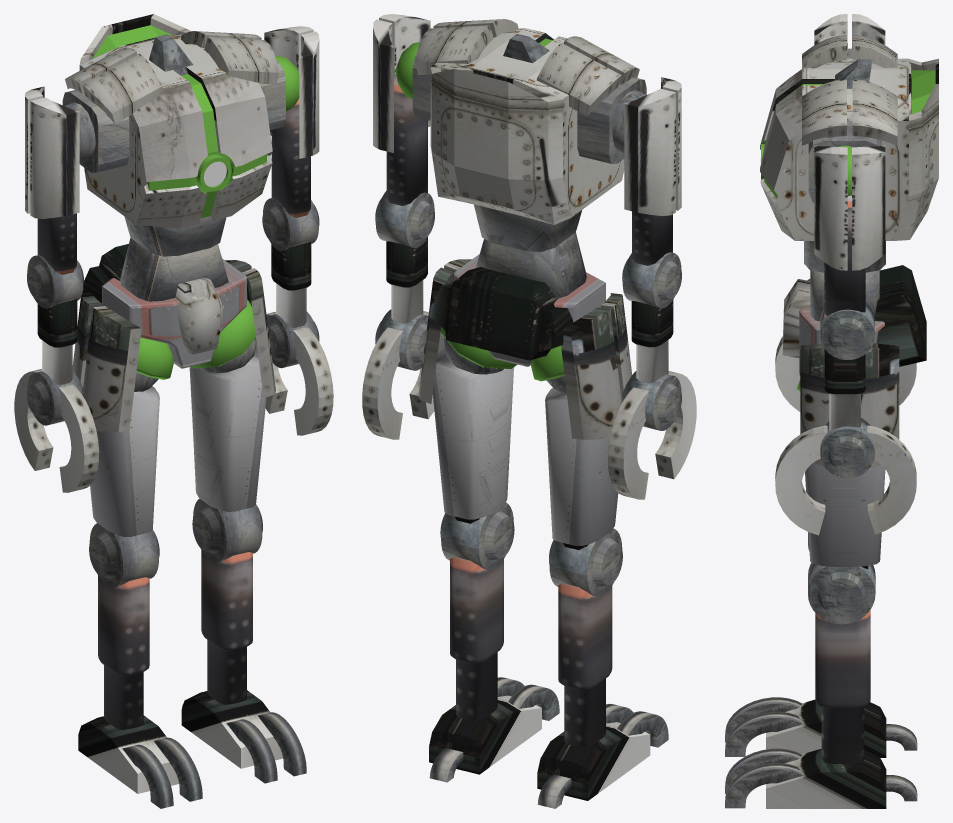
Rendered from Robot 5 body and legs.fbx.
The picture shows the model from 3 angles, left to right: view 1: azimuth 30°, elevation 25°; view 2: azimuth 150°, elevation 25°; view 3: azimuth 270°, elevation 25°; orthographic projection. The views are drawn at different scales.
Parts seen in each view (by area): view 1: Cube.017, Cube.008, Cube.006, Cube.028, Cube.025, Cube.012, Cube.024, Cube.020, Cube.030, Cube.002, Cube.013, Cube.015 (+32 smaller); view 2: Cube.017, Cube.008, Cube.029, Cube.028, Cube.025, Cube.006, Cube.012, Cube.024, Cube.015, Cube.013, Cube.030, Cube.018 (+29 smaller); view 3: Cube.017, Cube.018, Cube.012, Cube.008, Cube.007, Cube.013, Cube.031, Cube.029, Cylinder.004, Cylinder.019, Cylinder.020, Cube.015 (+20 smaller).
Boxes of the visible parts, box(x1,y1,x2,y2) form: Cube.017: box(79, 14, 272, 228); Cube.008: box(189, 348, 266, 511); Cube.006: box(90, 386, 159, 536); Cube.028: box(72, 292, 141, 432); Cube.025: box(98, 575, 149, 729); Cube.012: box(201, 550, 252, 704); Cube.024: box(25, 86, 79, 218); Cube.020: box(102, 258, 246, 368); Cube.030: box(65, 47, 163, 123); Cube.002: box(120, 238, 228, 301); Cube.013: box(181, 690, 283, 768); Cube.015: box(78, 715, 178, 793); Cube.017: box(430, 28, 624, 224); Cube.008: box(432, 347, 513, 519); Cube.029: box(431, 267, 573, 360); Cube.028: box(561, 293, 631, 439); Cube.025: box(558, 583, 612, 747); Cube.006: box(545, 388, 618, 545); Cube.012: box(450, 556, 503, 720); Cube.024: box(624, 77, 681, 216); Cube.015: box(537, 722, 650, 800); Cube.013: box(429, 695, 541, 774); Cube.030: box(536, 36, 639, 115); Cube.018: box(373, 14, 430, 152); Cube.017: box(760, 58, 938, 240); Cube.018: box(814, 145, 885, 270); Cube.012: box(815, 610, 870, 763); Cube.008: box(805, 463, 885, 566); Cube.007: box(800, 343, 899, 467); Cube.013: box(766, 748, 886, 808); Cube.031: box(802, 79, 897, 145); Cube.029: box(874, 265, 926, 366); Cylinder.004: box(808, 563, 875, 624); Cylinder.019: box(775, 425, 827, 535); Cylinder.020: box(867, 425, 916, 534); Cube.015: box(766, 699, 886, 757).
Bounding box in the file's own units: 482 × 1132 × 309.
